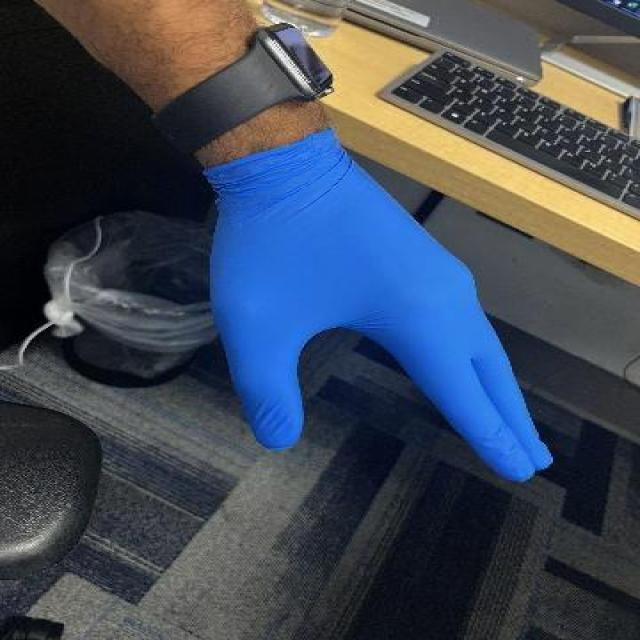Guantes: (101, 99, 568, 482)
